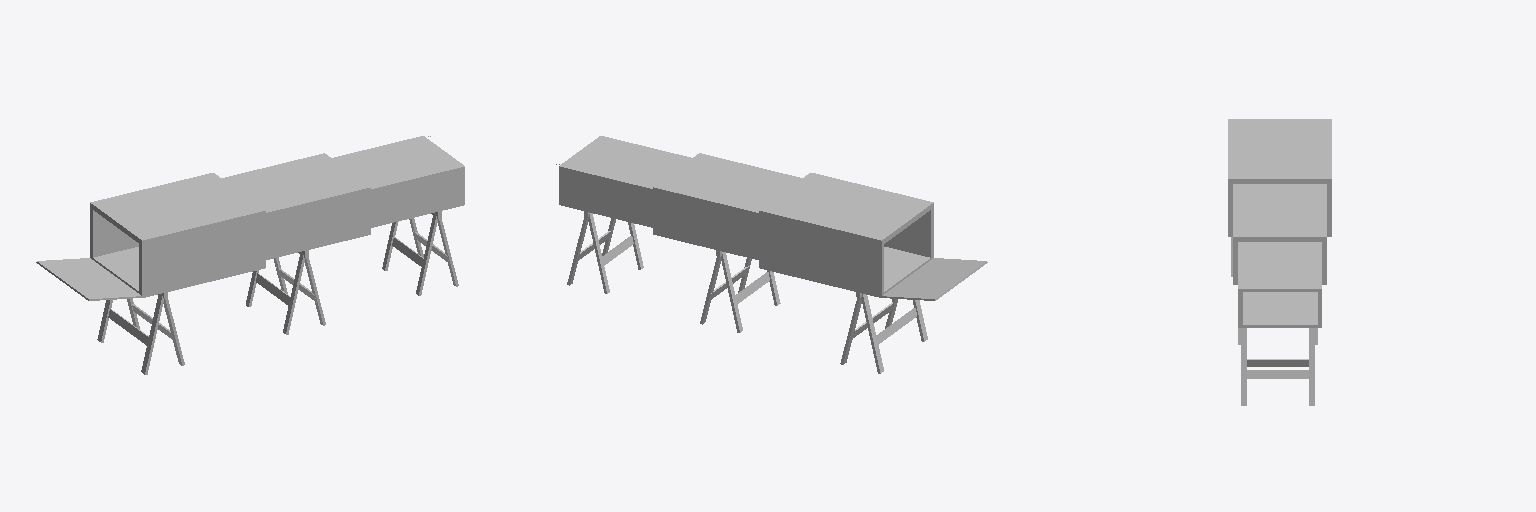
File: ttoootp.obj
3 views of the same model, side by side, from view 1: azimuth 30°, elevation 25°; view 2: azimuth 150°, elevation 25°; view 3: azimuth 270°, elevation 25° (orthographic).
Visible parts, largest first — view 1: Cube, Cube.001_Cube.003, Cube.002_Cube.004, Plane, Cube.004_Cube.006; view 2: Cube, Cube.001_Cube.003, Cube.002_Cube.004, Plane, Cube.005_Cube.007; view 3: Cube, Cube.002_Cube.004, Cube.001_Cube.003, Cube.023_Cube.025.
Part boxes in pixels (bbox=[...]): Cube: bbox=[90, 173, 265, 297]; Cube.001_Cube.003: bbox=[222, 153, 370, 259]; Cube.002_Cube.004: bbox=[332, 136, 464, 227]; Plane: bbox=[36, 258, 141, 300]; Cube.004_Cube.006: bbox=[141, 293, 163, 374]; Cube: bbox=[759, 173, 933, 297]; Cube.001_Cube.003: bbox=[653, 153, 801, 259]; Cube.002_Cube.004: bbox=[559, 136, 691, 227]; Plane: bbox=[881, 258, 987, 300]; Cube.005_Cube.007: bbox=[861, 294, 883, 373]; Cube: bbox=[1228, 119, 1331, 236]; Cube.002_Cube.004: bbox=[1238, 242, 1321, 327]; Cube.001_Cube.003: bbox=[1233, 184, 1326, 284]; Cube.023_Cube.025: bbox=[1247, 370, 1308, 378].
Size of the model in its own units: 262 by 88.86 by 61.41.